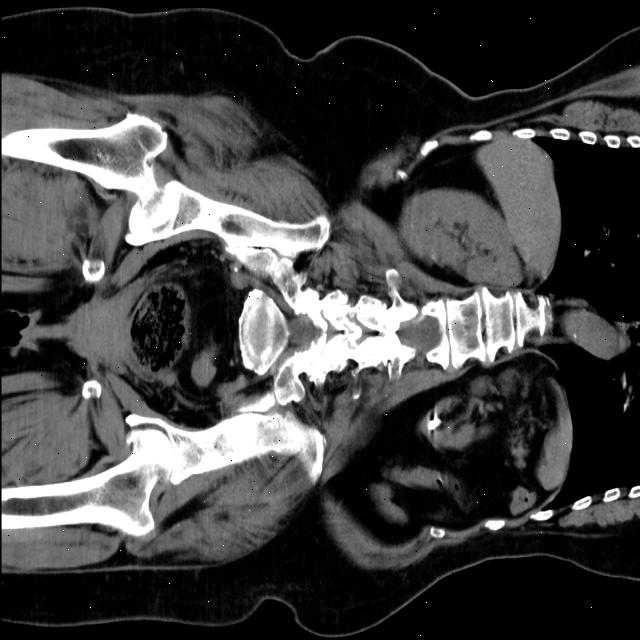kidneystone: (426, 416, 440, 430)
